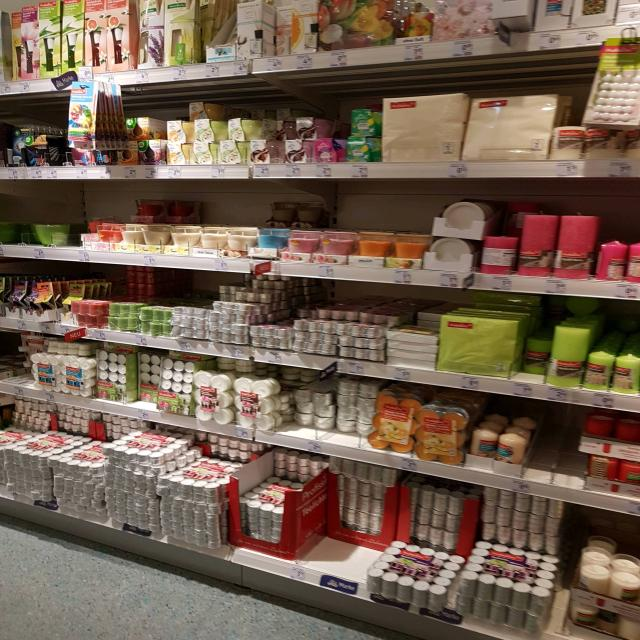void: (543, 407, 576, 471)
